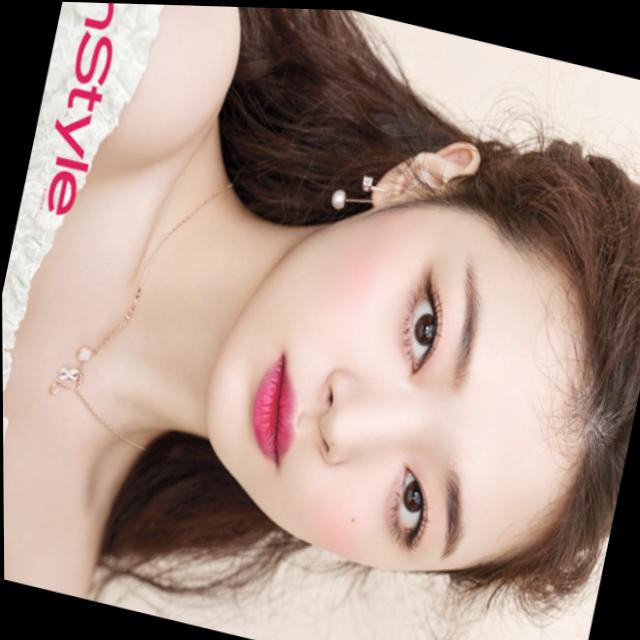face: (159, 67, 640, 638)
